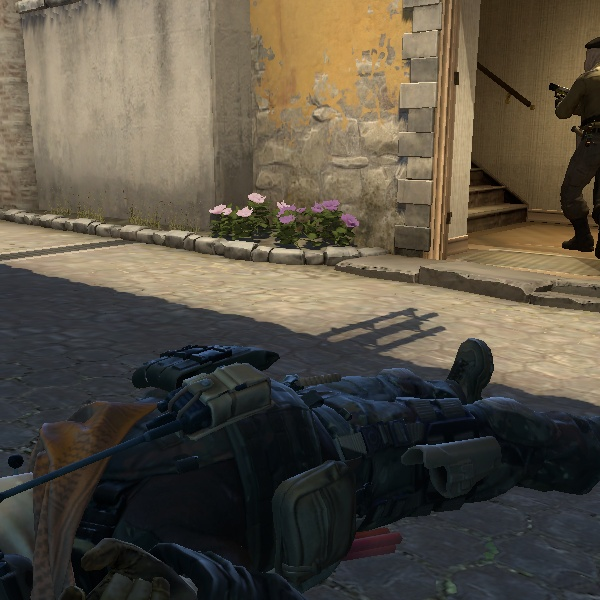t_body: (535, 25, 600, 259)
t_head: (577, 29, 599, 83)
